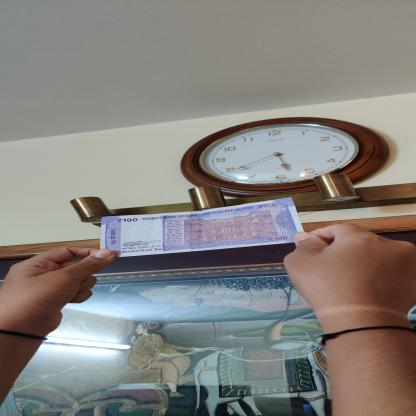New100Back: (100, 196, 312, 258)
